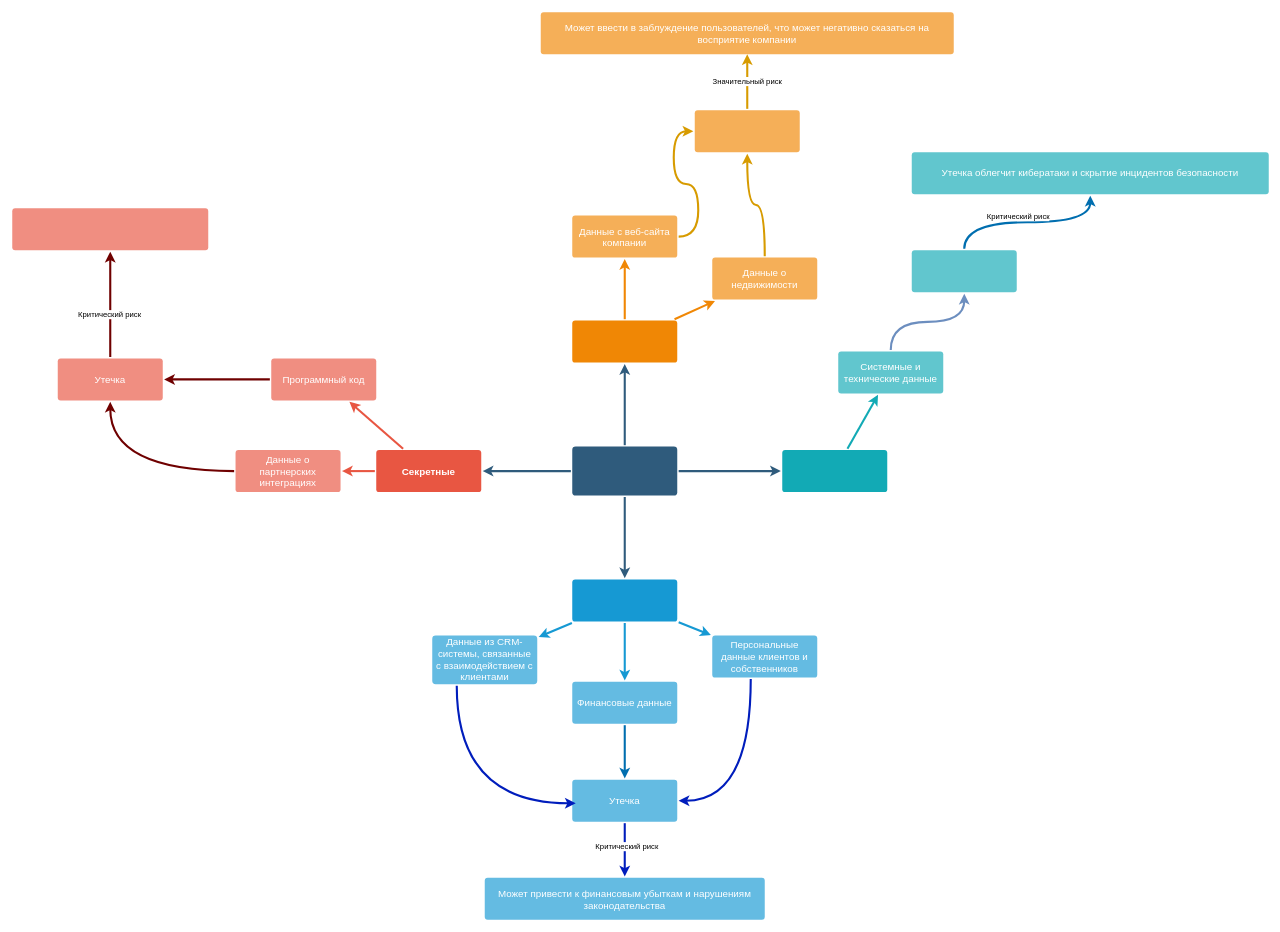
Image size: 1280x932. Some labels were removed from this diagram. The shapes that lost their labels are listed below. From the top down, each one's centre as x and y in pixels, then its label:
At (x=746, y=131): "Потеря Искажение Некачественные".
At (x=110, y=229): "Утечка может предоставить конкурентам стратегические преимущества".
At (x=963, y=271): "Утечка данных".
At (x=624, y=341): "Публичные".
At (x=624, y=470): "Безопасность данных".
At (x=834, y=471): "Внутренние".
At (x=624, y=600): "Конфиденциальные".
